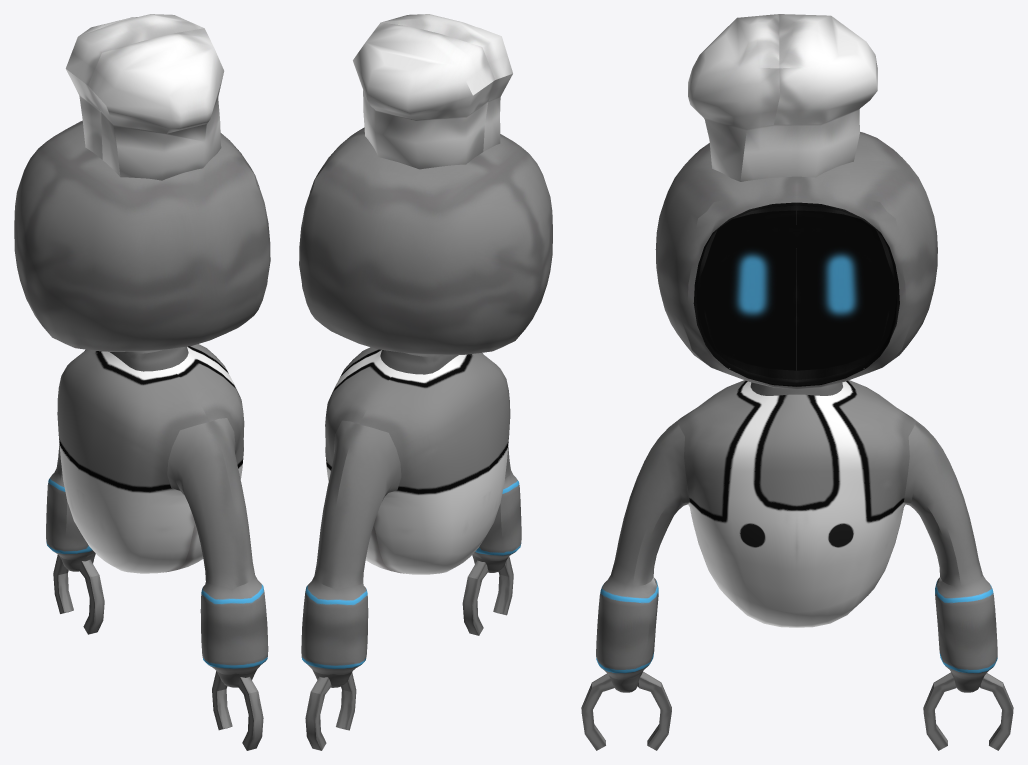
Rendered from Robot protagonista.fbx.
3 views of the same model, side by side, from view 1: azimuth 30°, elevation 25°; view 2: azimuth 150°, elevation 25°; view 3: azimuth 270°, elevation 25° (orthographic). The views are drawn at different scales.
Visible parts, largest first — view 1: Cube, Cube.005, Cube.006, Cube.001, Cube.004, Cube.003, Cube.002; view 2: Cube, Cube.005, Cube.006, Cube.002, Cube.003, Cube.001, Cube.004; view 3: Cube, Cube.005, Cube.006, Cube.002, Cube.003, Cube.004, Cube.001.
Boxes of the visible parts, x1,y1,x2,y2 form: Cube: [46, 344, 268, 687]; Cube.005: [14, 120, 270, 351]; Cube.006: [65, 14, 224, 180]; Cube.001: [237, 677, 263, 750]; Cube.004: [79, 559, 104, 634]; Cube.003: [53, 554, 73, 613]; Cube.002: [212, 671, 232, 730]; Cube: [301, 347, 521, 687]; Cube.005: [299, 127, 552, 355]; Cube.006: [353, 14, 512, 169]; Cube.002: [462, 560, 488, 635]; Cube.003: [305, 676, 331, 750]; Cube.001: [493, 556, 513, 615]; Cube.004: [336, 672, 356, 730]; Cube: [596, 380, 997, 692]; Cube.005: [655, 132, 937, 389]; Cube.006: [688, 14, 877, 181]; Cube.002: [638, 671, 671, 750]; Cube.003: [980, 673, 1013, 750]; Cube.004: [923, 672, 956, 750]; Cube.001: [581, 673, 614, 750].
Bounding box in the file's own units: 117 × 366 × 201.
Materials: 4 (4 with a texture image).
